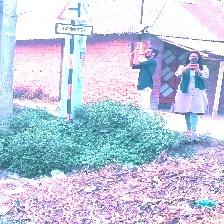Side-road-left: (55, 2, 93, 37)
